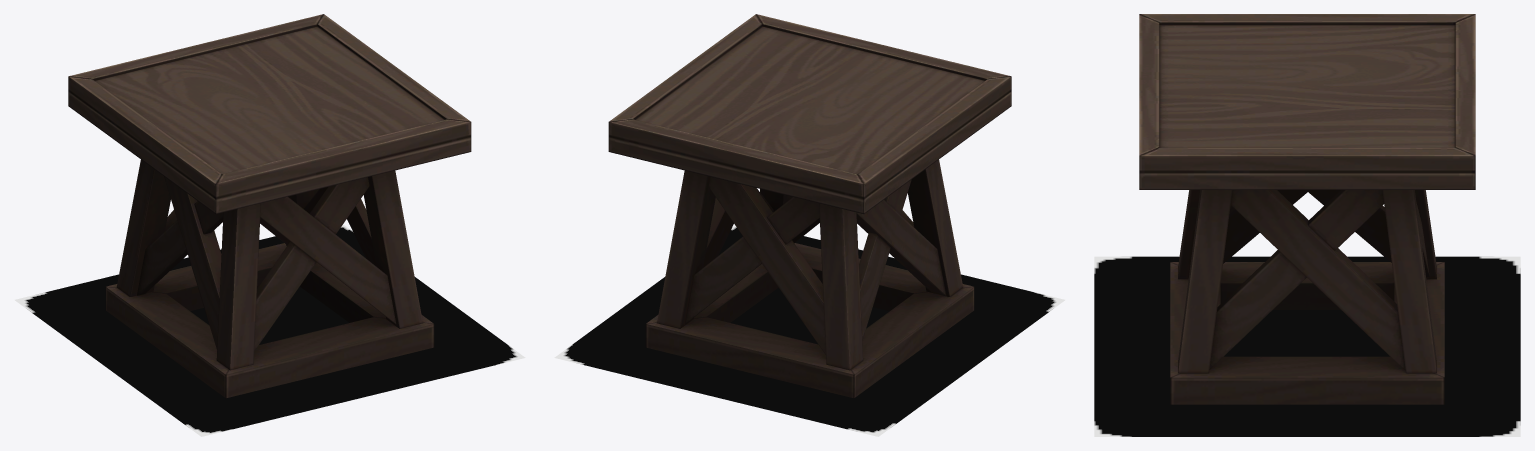
File: jj_ty_table09_01.FBX
3 views of the same model, side by side, from view 1: azimuth 30°, elevation 25°; view 2: azimuth 150°, elevation 25°; view 3: azimuth 270°, elevation 25° (orthographic). The views are drawn at different scales.
Visible parts, largest first — view 1: jj_ty_table09_01, shadow; view 2: jj_ty_table09_01, shadow; view 3: jj_ty_table09_01, shadow.
Part boxes in pixels (bbox=[...]): jj_ty_table09_01: bbox=[68, 14, 471, 398]; shadow: bbox=[15, 224, 525, 436]; jj_ty_table09_01: bbox=[608, 14, 1011, 398]; shadow: bbox=[554, 225, 1064, 436]; jj_ty_table09_01: bbox=[1139, 14, 1475, 404]; shadow: bbox=[1094, 256, 1520, 436].
Size of the model in its own units: 64.96 by 44.65 by 64.96.
